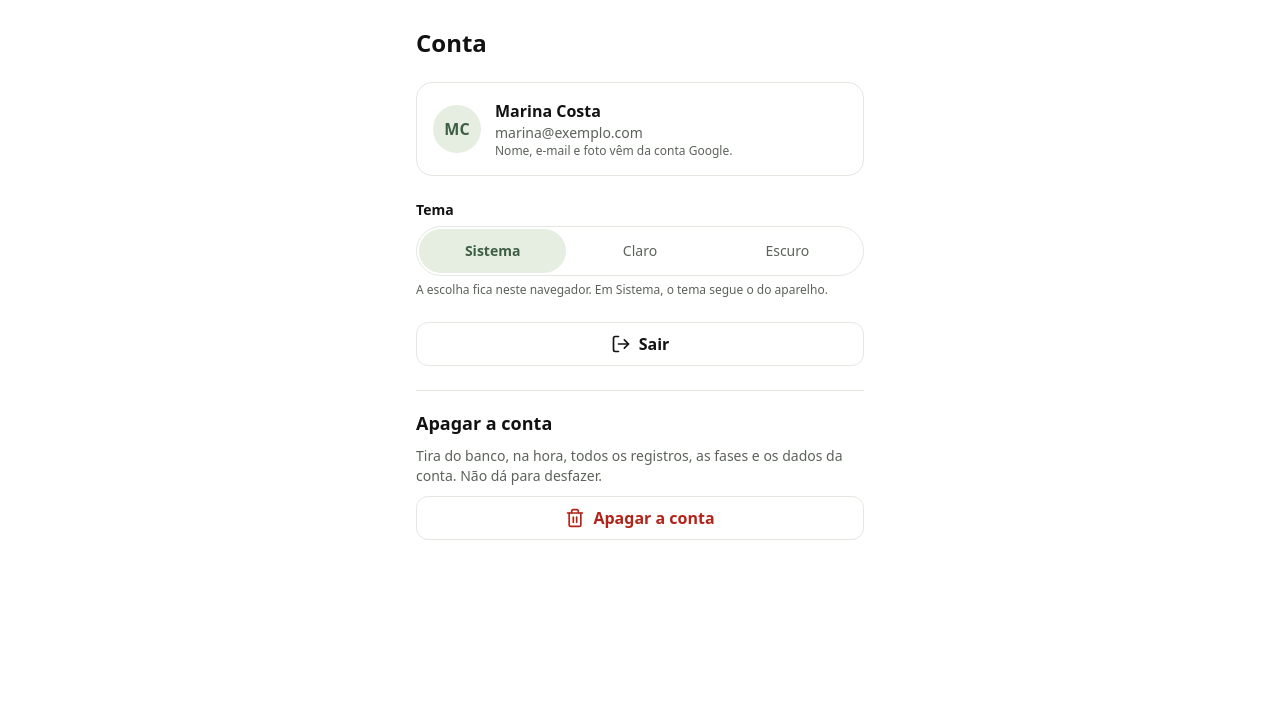
apagar manda o e-mail digitado e a entrada confirma a exclusão
Click the button "Apagar a conta". click: [640, 518]
box: [416,496,864,540]
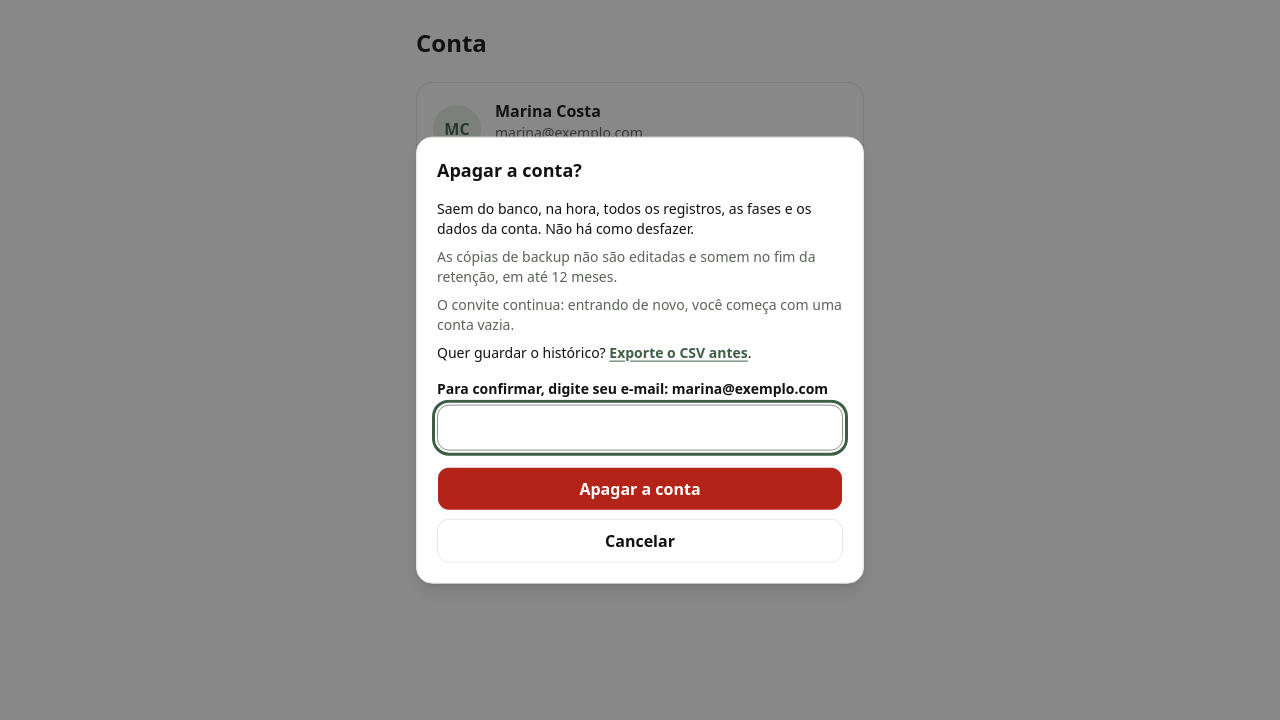
Type "marina@exemplo.com" into the field labelled "Para confirmar, digite seu e-mail: marina@exemplo.com". click: [640, 427]
box: [450,405,830,449]
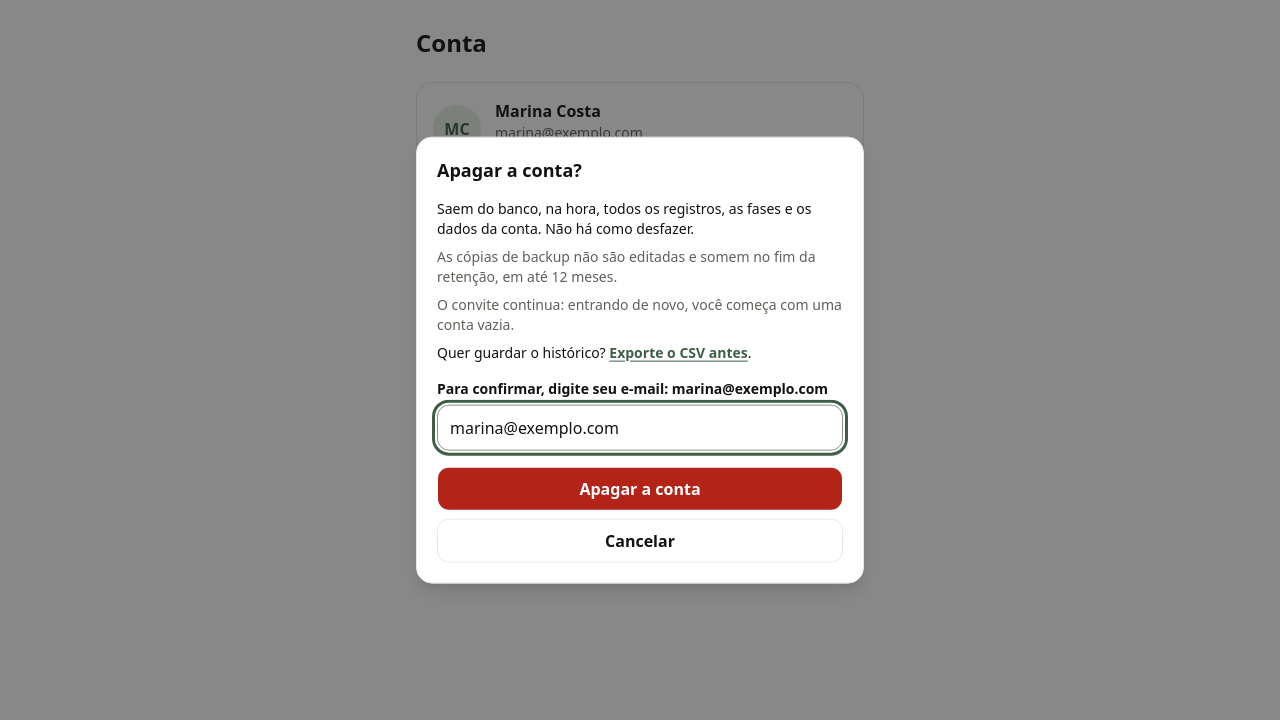
Click the button "Apagar a conta". click: [640, 488]
box: [437,466,843,510]
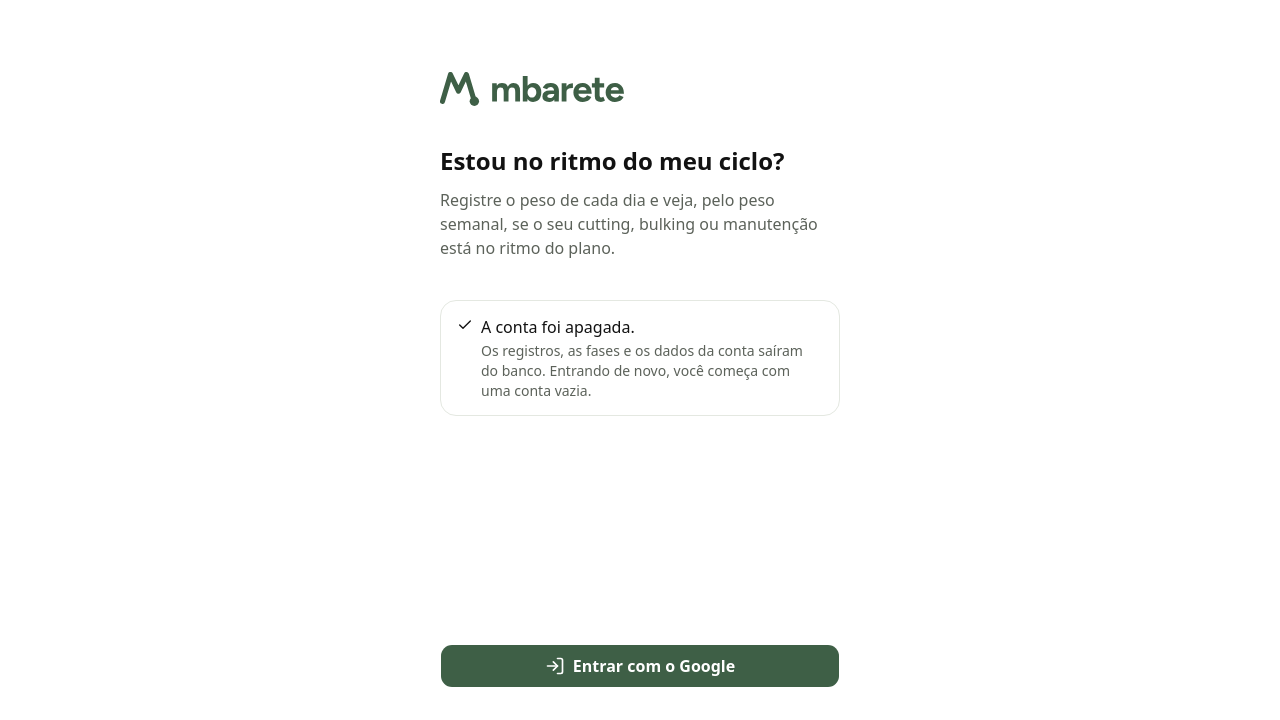
Expected: the text "A conta foi apagada." is shown, [481,316,635,338]
